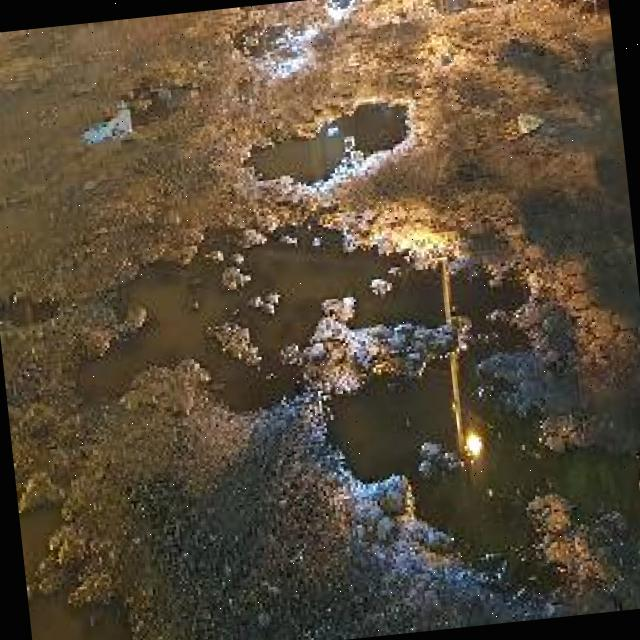stagnation: (35, 201, 632, 619), (226, 68, 430, 210)
